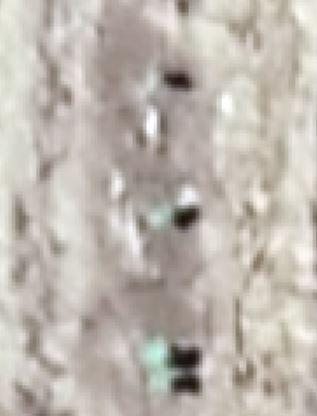cotton: (140, 340, 166, 366), (150, 370, 172, 393), (149, 206, 173, 227)
